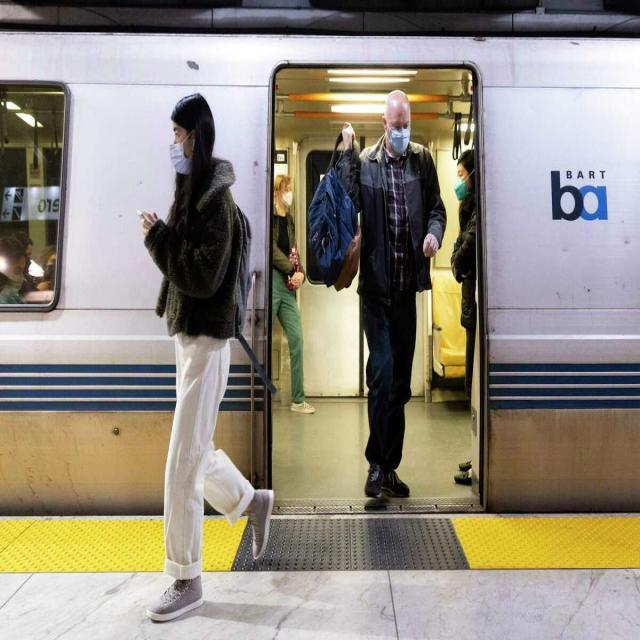person: (136, 85, 282, 638), (334, 83, 440, 516)
